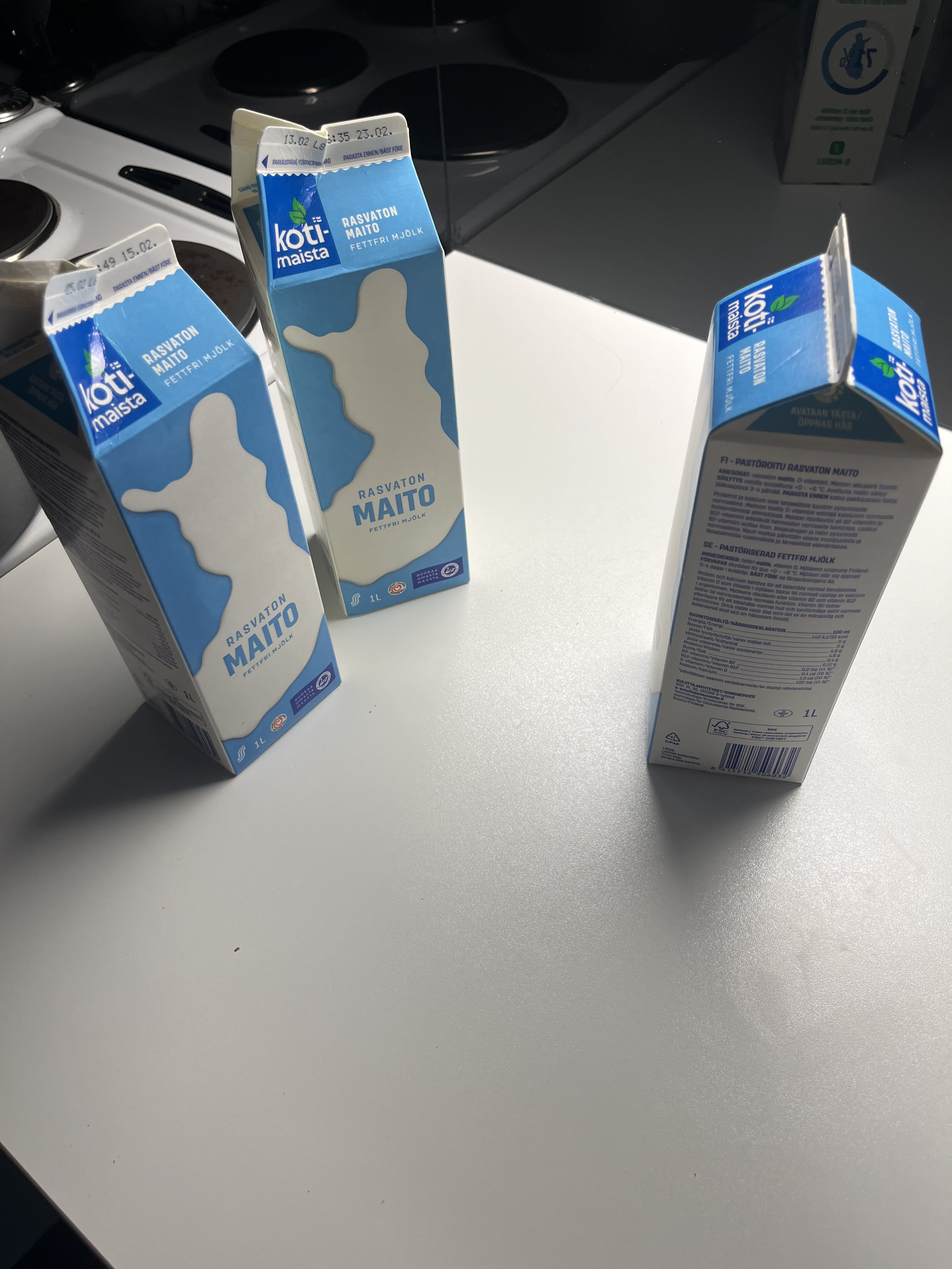Dryckeskartong: (2, 229, 351, 780), (652, 222, 945, 805), (213, 104, 472, 604)
